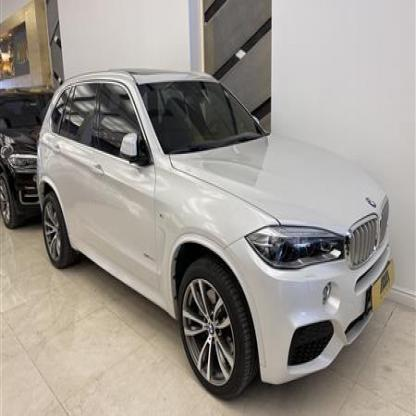Car: (34, 47, 391, 369), (0, 68, 65, 225)
